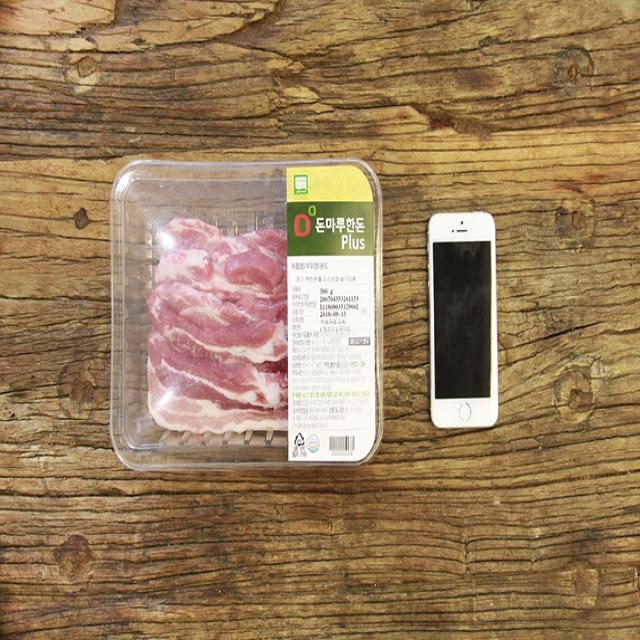pork: (106, 138, 387, 476)
